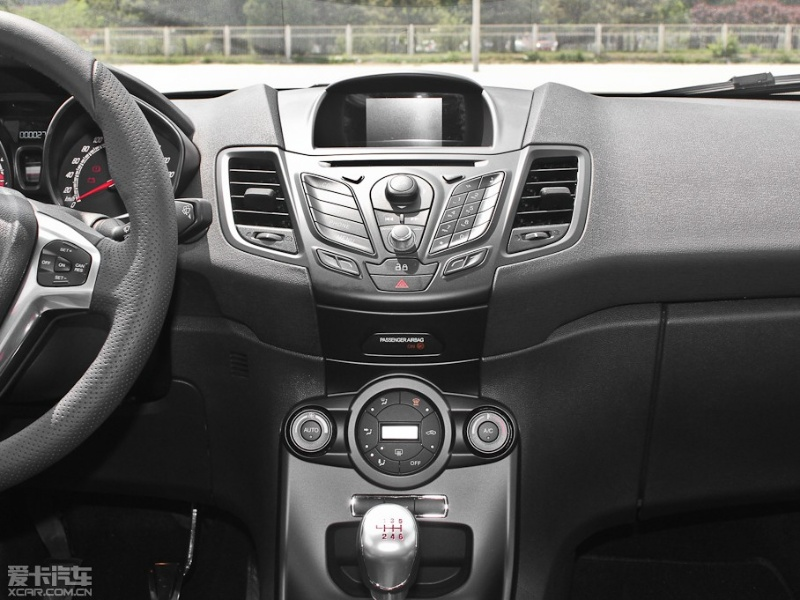control_center: (210, 69, 598, 504)
gear_lever: (326, 496, 458, 585)
odometer: (7, 77, 166, 209)
steering_wheel: (1, 6, 208, 488)
